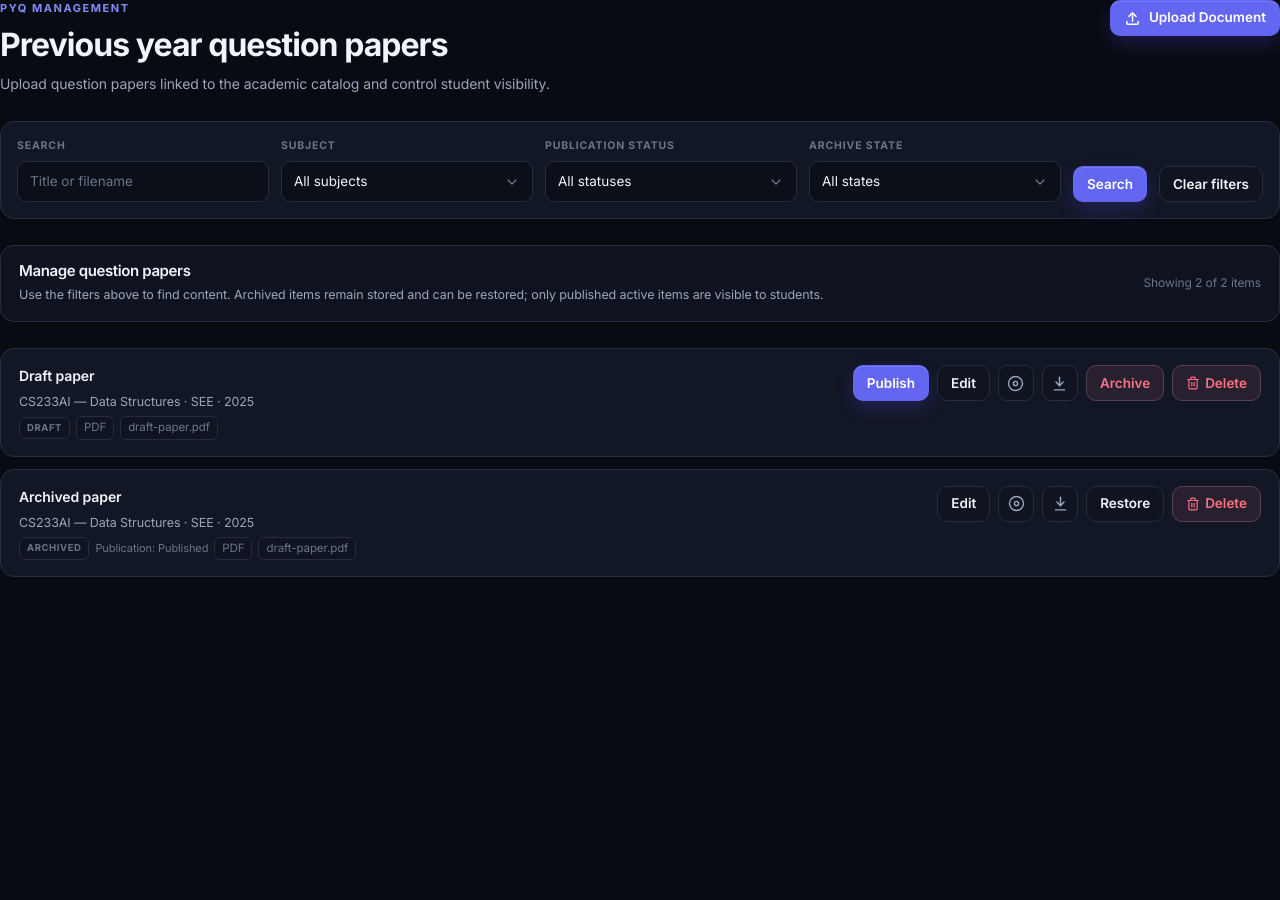
Test: AdminContentManager lifecycle states › deletes content item when Confirm Delete is clicked
This screenshot has width=1280, height=900.
Expected: the text "Draft paper" is shown, x1=19 y1=365 x2=94 y2=387
Click the button with aria-label "Delete Draft paper". click: (1217, 383)
box: x1=1172 y1=365 x2=1261 y2=401
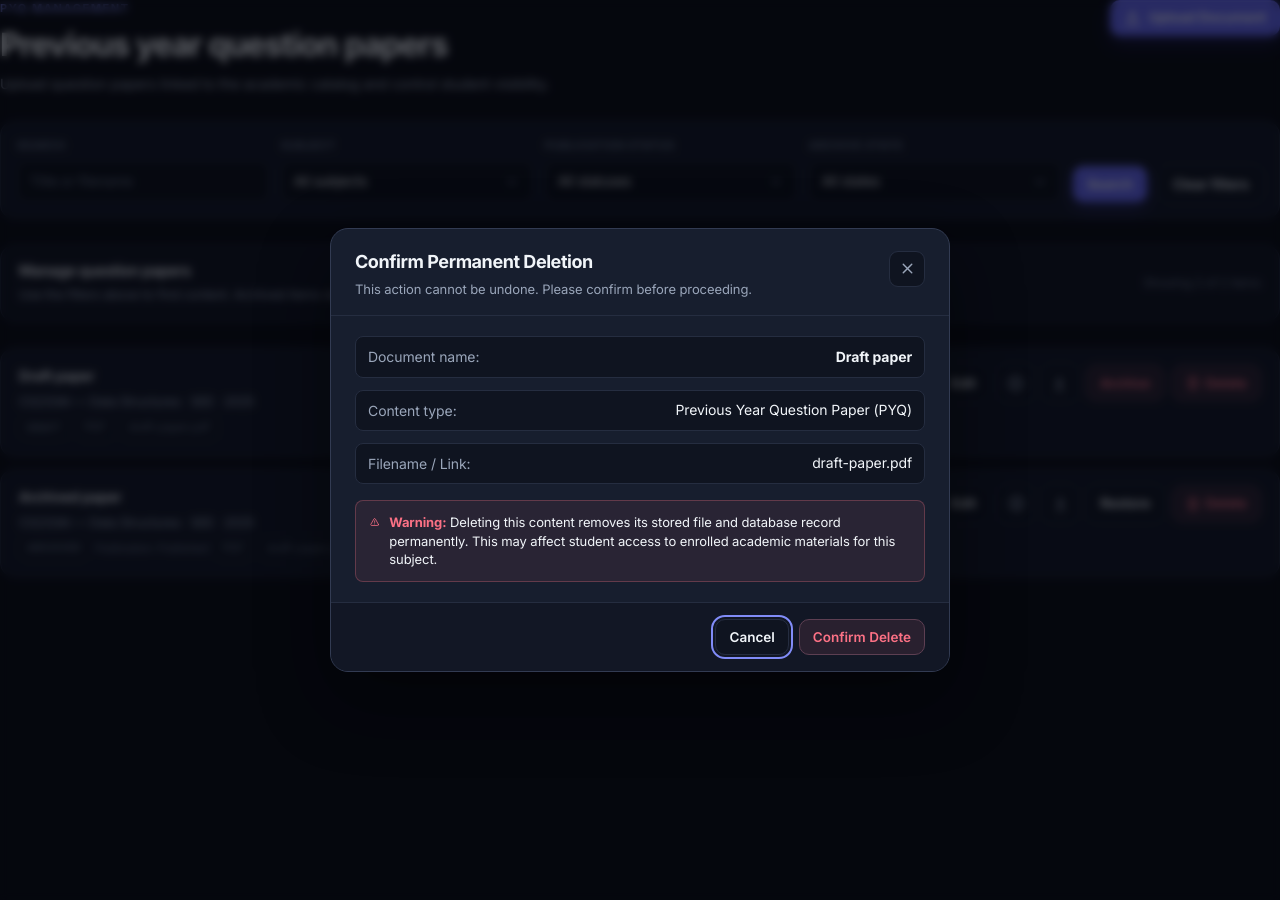
Click the button "Confirm Delete". click: (862, 637)
box: x1=799 y1=619 x2=925 y2=655
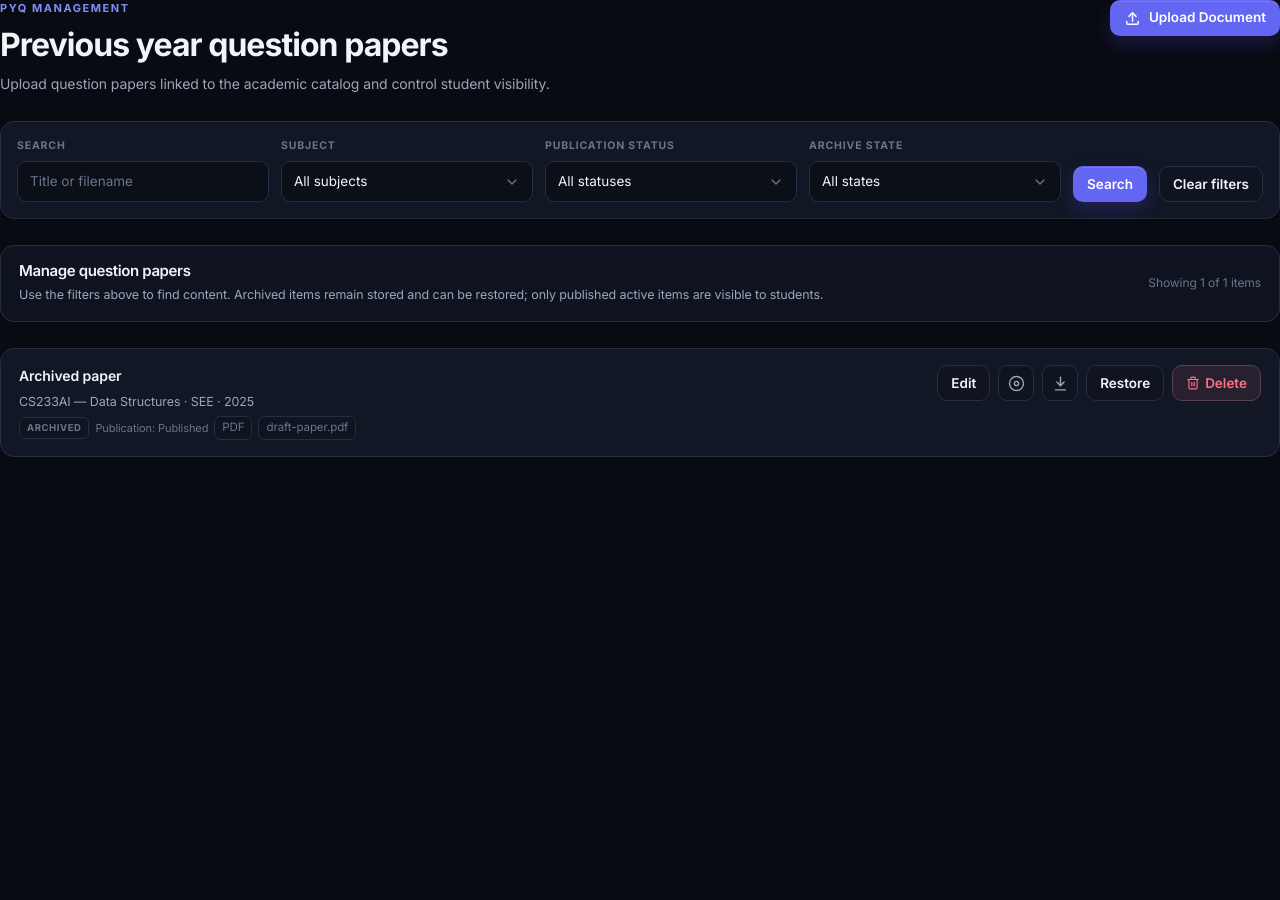
Expected: the text "Draft paper" is gone
